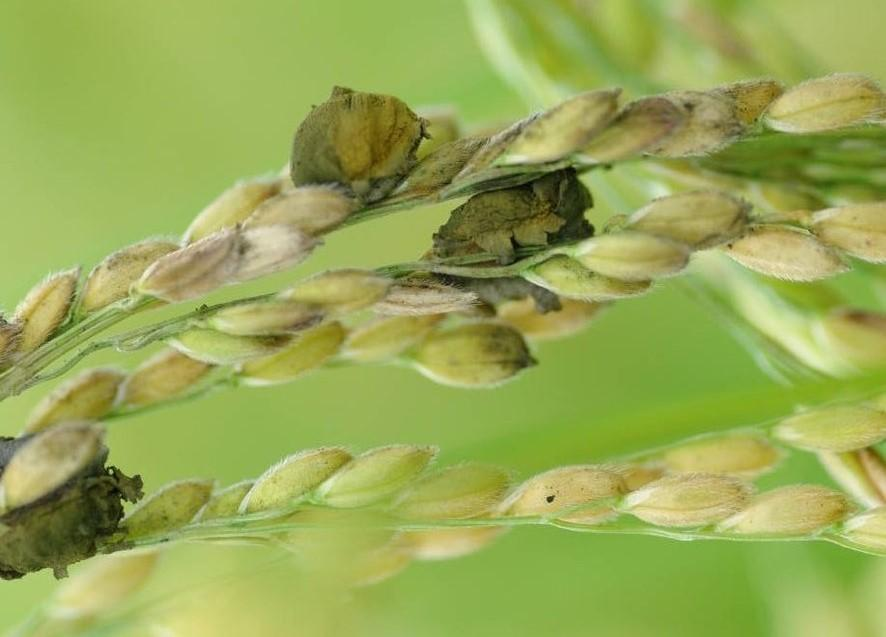False Smut: (413, 165, 597, 322), (0, 427, 142, 590), (287, 75, 427, 208)
